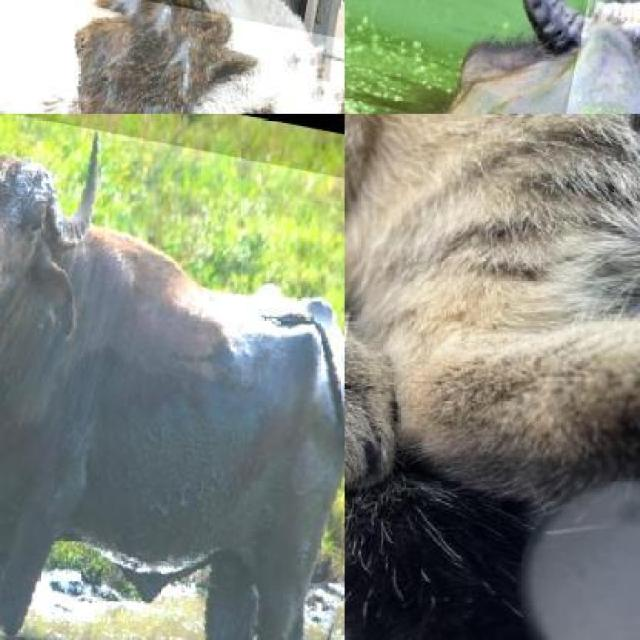buffalo: (0, 114, 345, 640), (554, 0, 640, 114)
dog: (0, 0, 345, 114)
